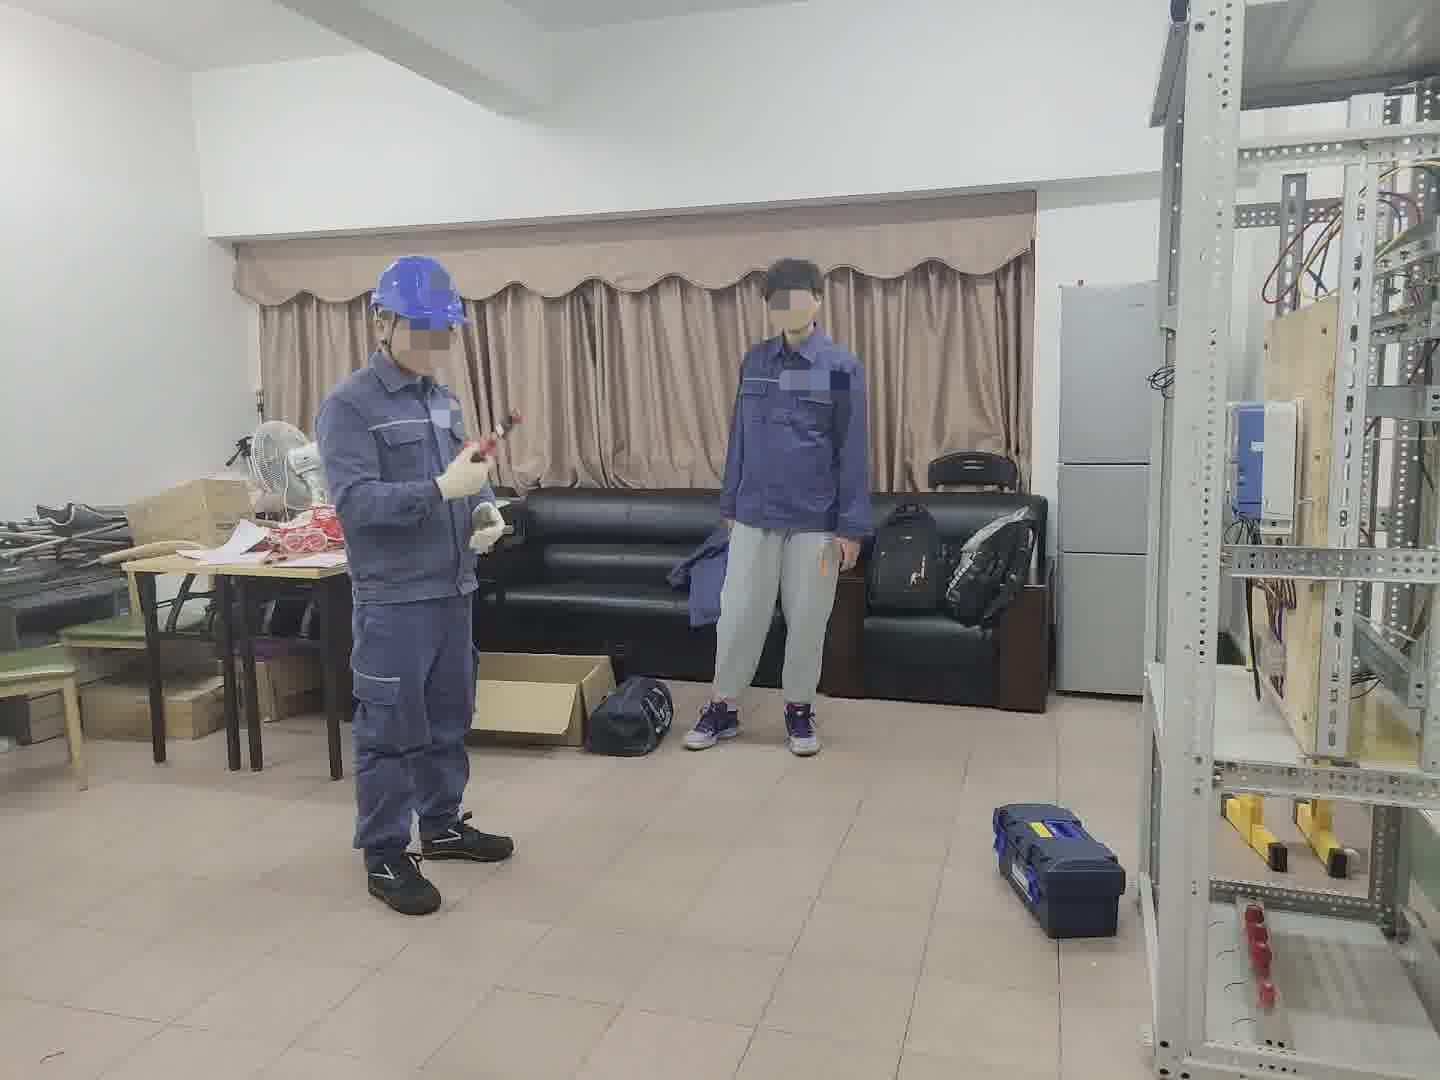halt: (370, 259, 475, 376)
inear: (371, 309, 407, 362)
unhalt: (762, 256, 831, 341)
